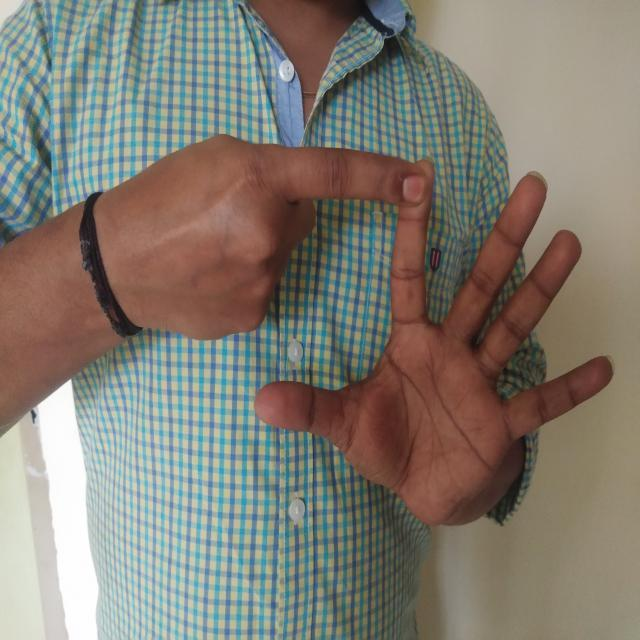E: (142, 97, 627, 548)
